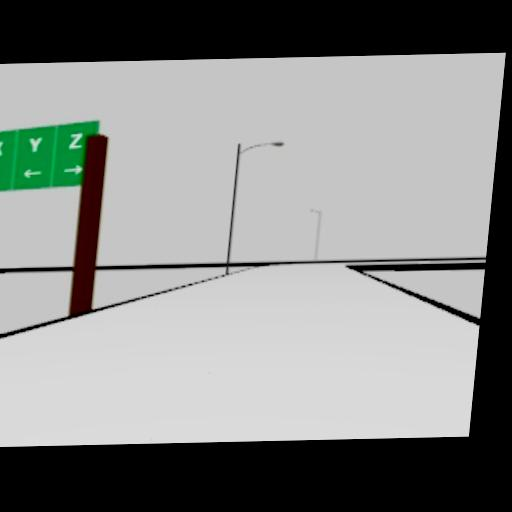Left: (22, 168, 43, 178)
Right: (62, 163, 83, 175)
Straight: (0, 166, 0, 186)
X: (0, 141, 3, 156)
Y: (26, 136, 42, 152)
Z: (68, 133, 82, 149)
